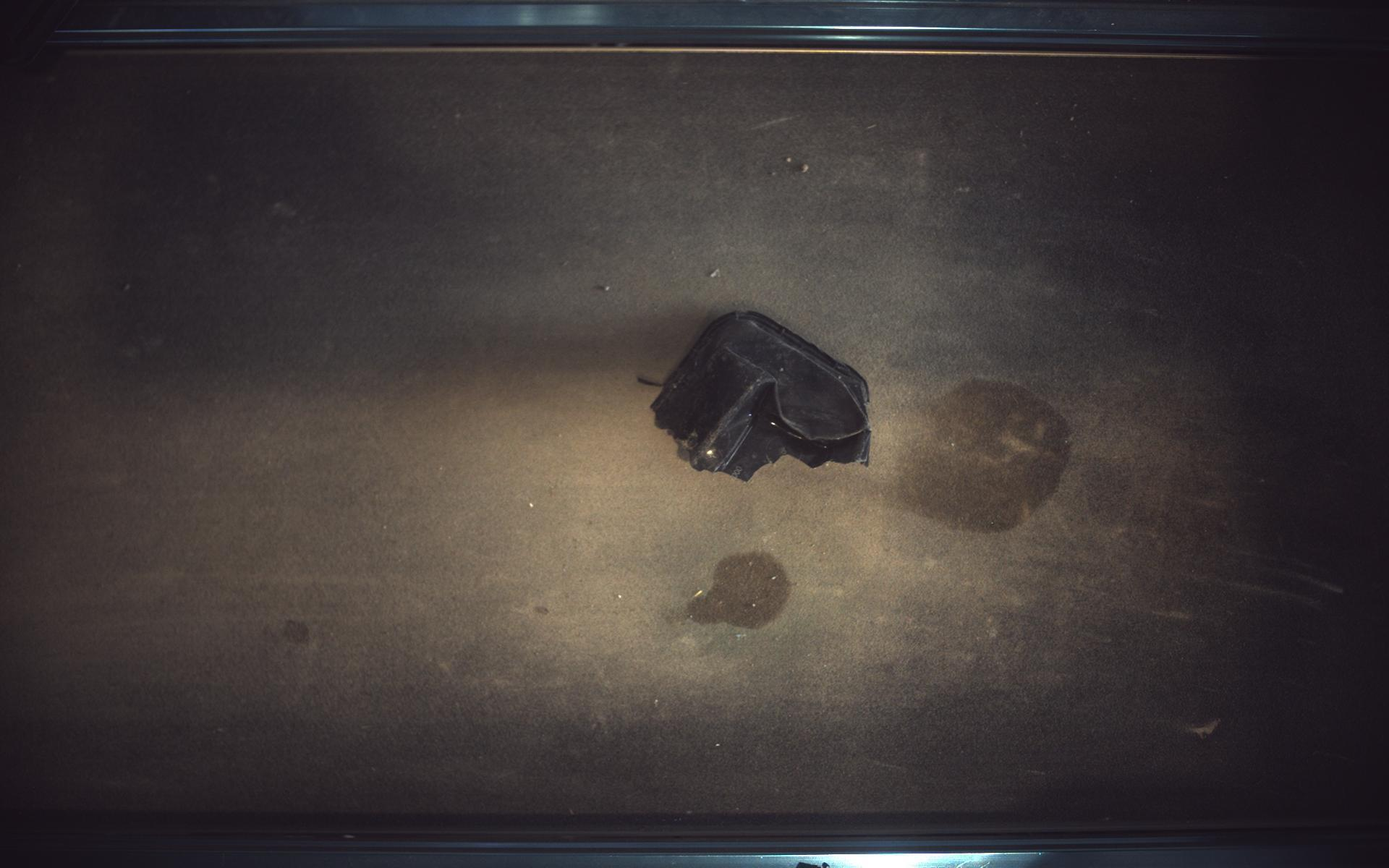general_w: (653, 311, 872, 481)
